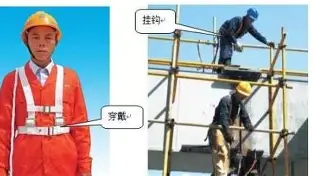safety belt: (10, 63, 74, 143), (223, 95, 242, 132), (227, 17, 248, 48)
